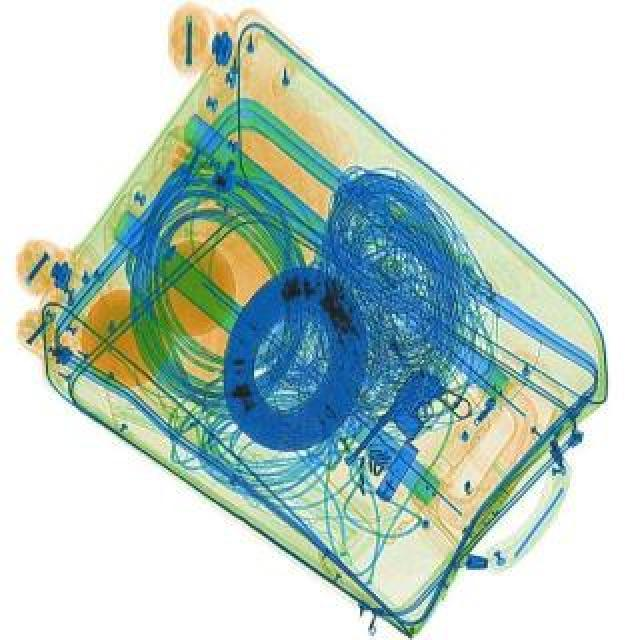gun: (338, 360, 478, 502)
